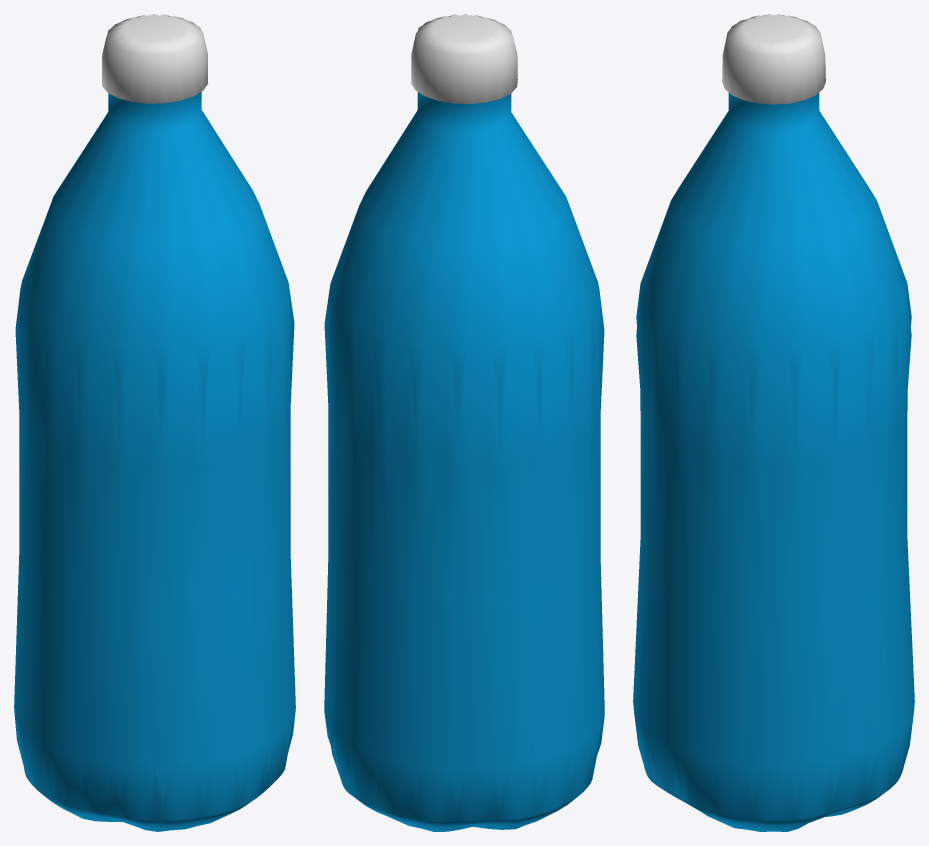
Rendered from ChaiNuoc.fbx.
3 views of the same model, side by side, from view 1: azimuth 30°, elevation 25°; view 2: azimuth 150°, elevation 25°; view 3: azimuth 270°, elevation 25° (orthographic).
Parts seen in each view (by area): view 1: pCylinder21; view 2: pCylinder21; view 3: pCylinder21.
Part boxes in pixels (x1,y1,x2,y2): pCylinder21: (14, 14, 295, 831); pCylinder21: (324, 14, 604, 831); pCylinder21: (633, 14, 914, 831).
Size of the model in its own units: 6.39 by 19.23 by 6.37.
